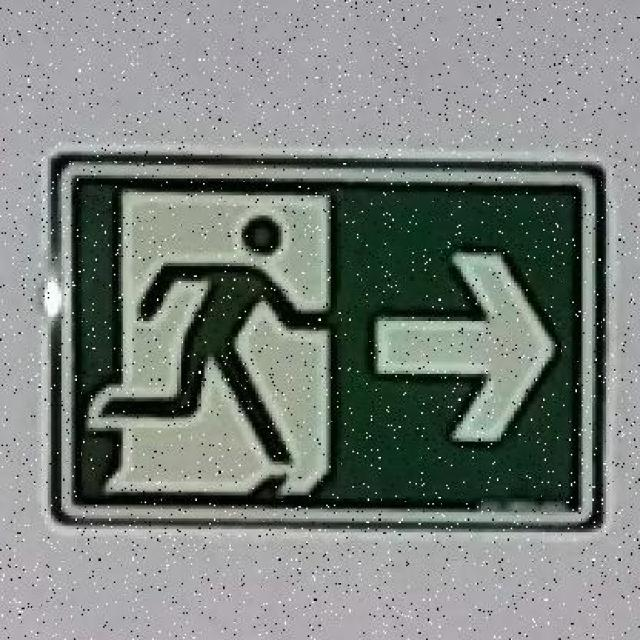emergency_exit: (50, 153, 605, 529)
